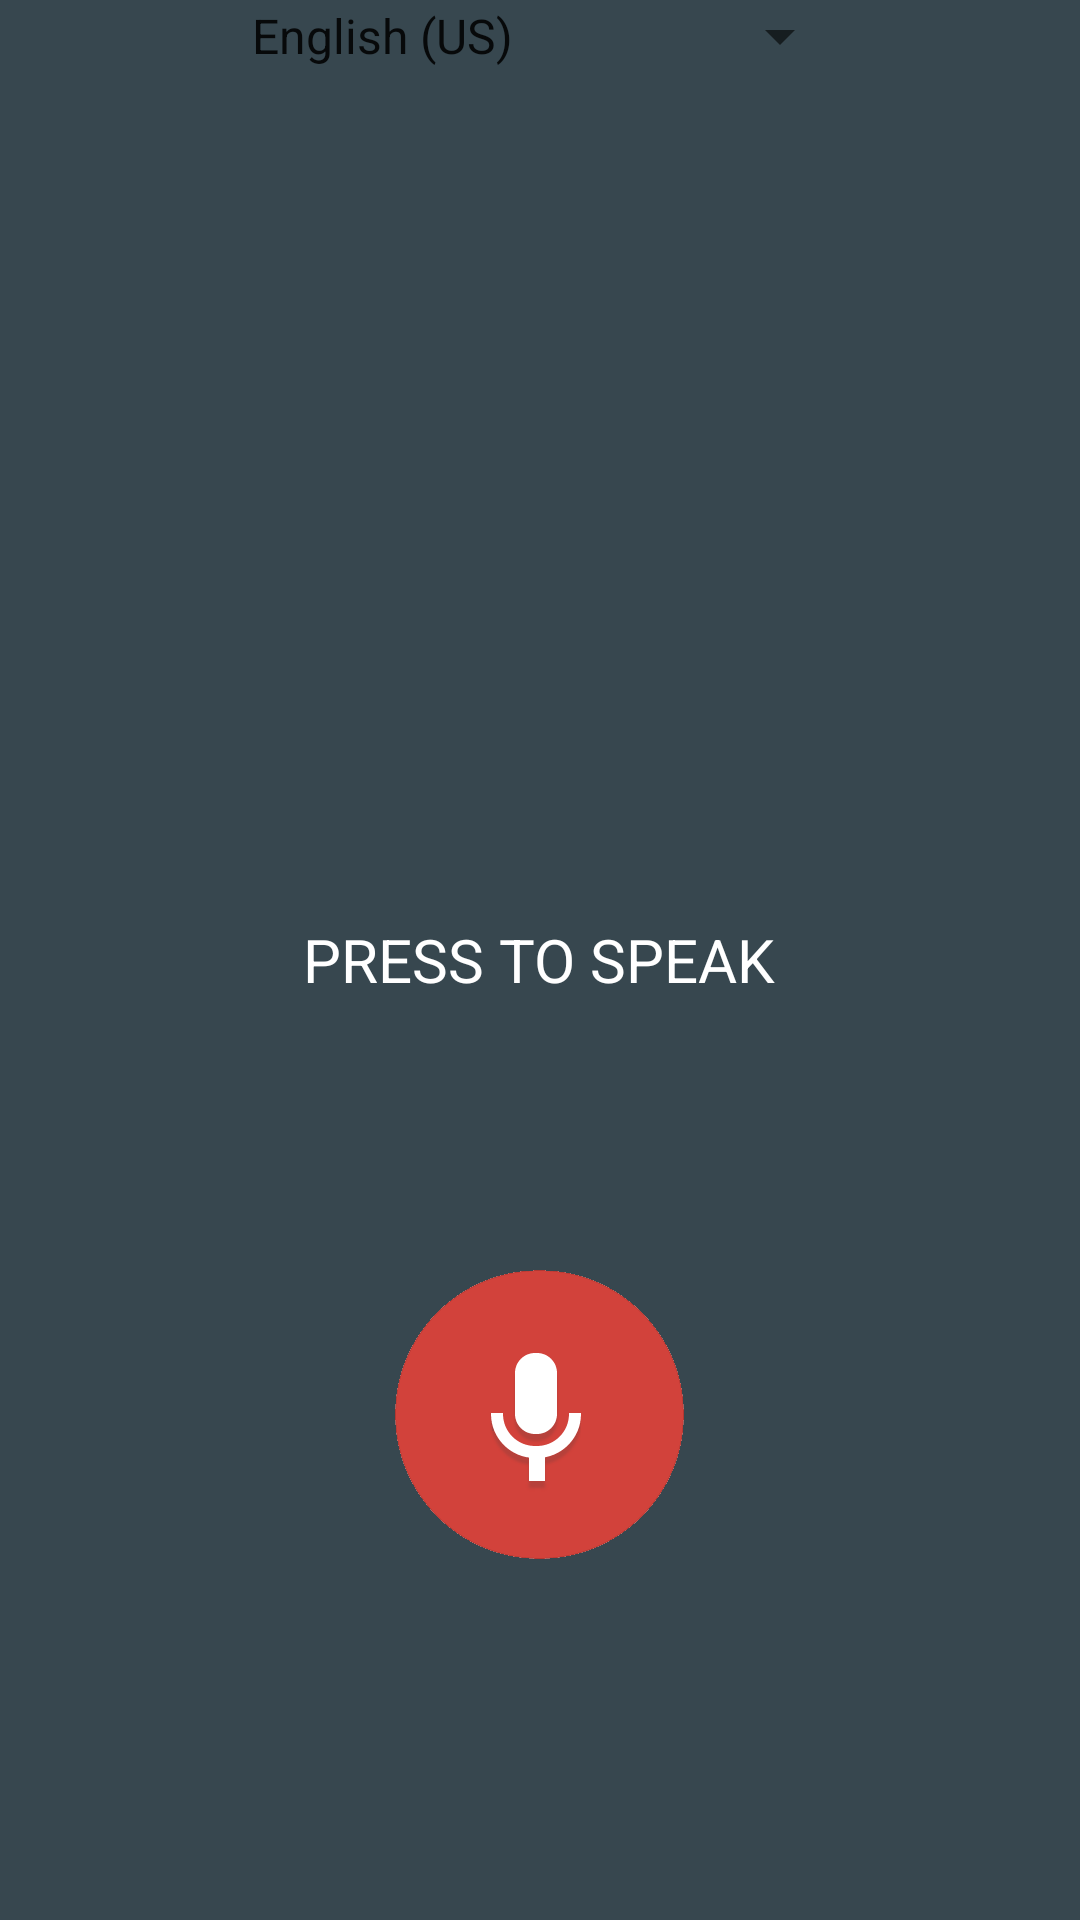

Icon bounding boxes for this 1080w x 1920h phone screenshot, format (x1, y1, x2, y2):
voice: (395, 1270, 684, 1559)
